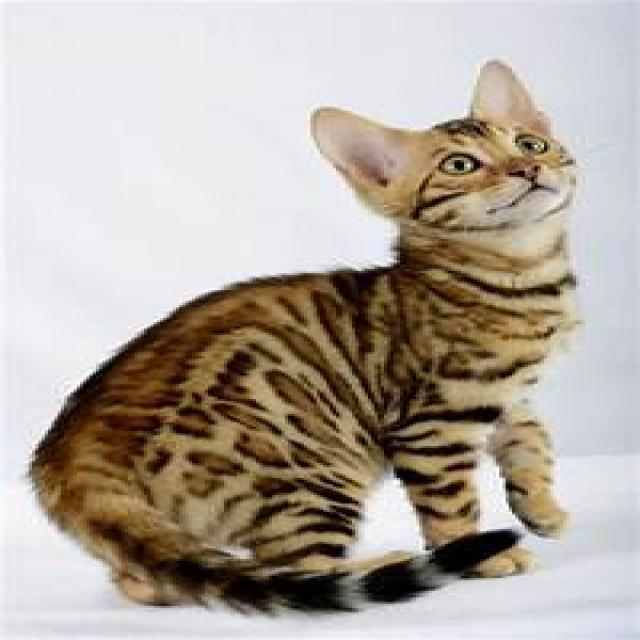animal: (25, 58, 582, 616)
